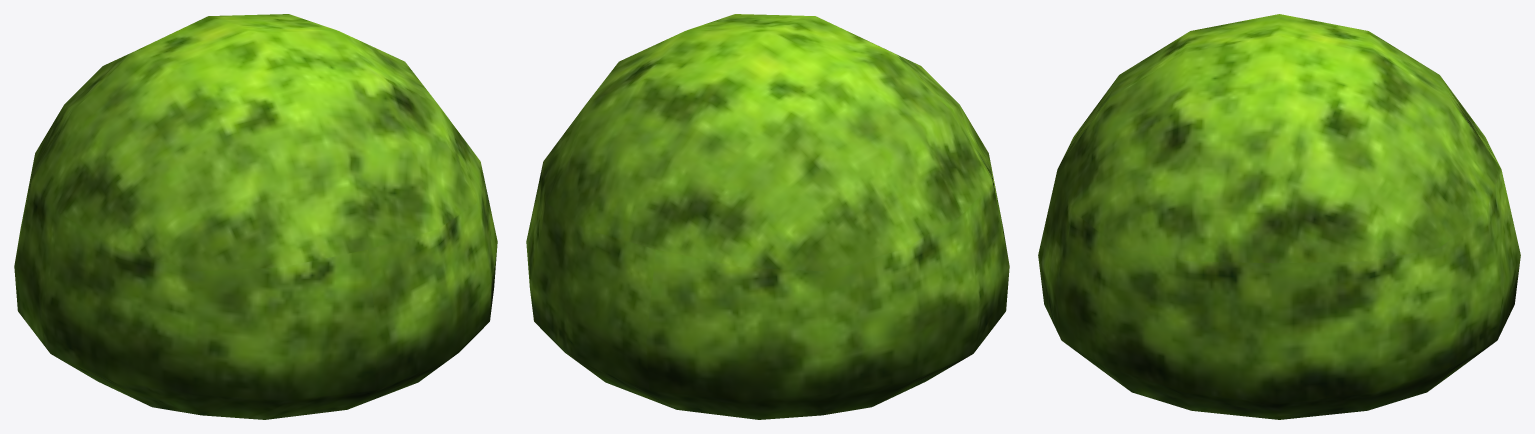
File: buissong.fbx
3 views of the same model, side by side, from view 1: azimuth 30°, elevation 25°; view 2: azimuth 150°, elevation 25°; view 3: azimuth 270°, elevation 25° (orthographic).
Visible parts, largest first — view 1: buissong; view 2: buissong; view 3: buissong.
Part boxes in pixels (<box>): buissong: <box>14,14,497,419</box>; buissong: <box>526,14,1009,419</box>; buissong: <box>1038,14,1520,419</box>.
Size of the model in its own units: 334 by 258 by 334.
